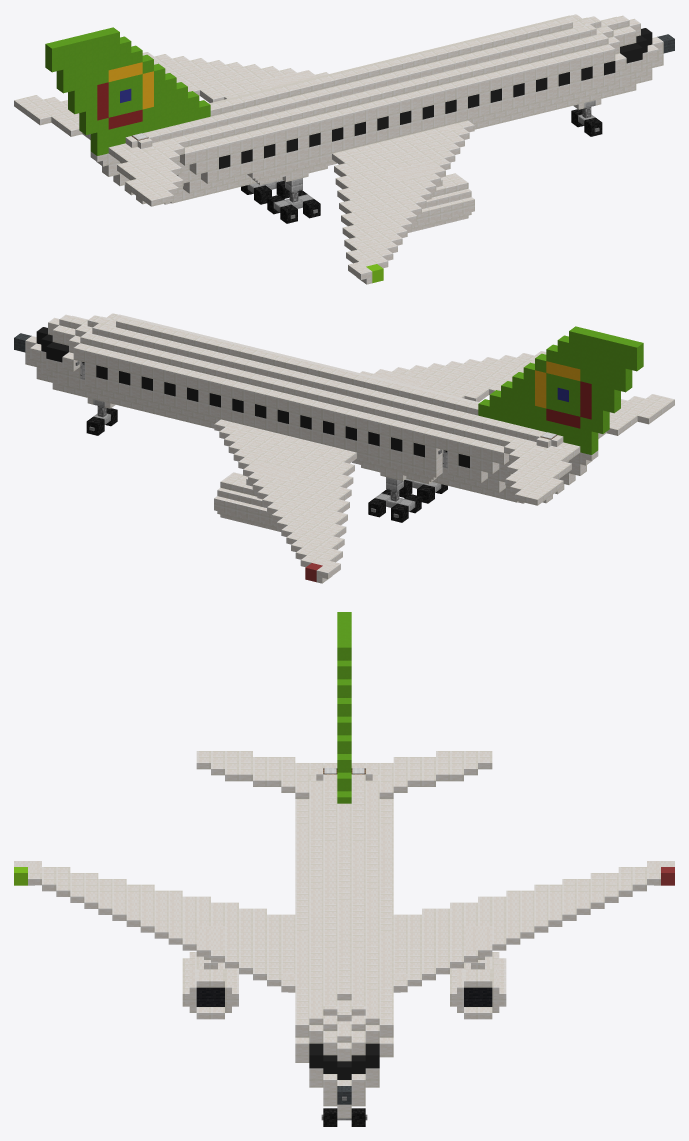
File: AirPlane.glb
3 views of the same model, one above another, from view 1: azimuth 30°, elevation 25°; view 2: azimuth 150°, elevation 25°; view 3: azimuth 270°, elevation 25° (orthographic). The views are drawn at different scales.
Parts seen in each view (by area): view 1: Plane; view 2: Plane; view 3: Plane.
Boxes of the visible parts, <box> form: Plane: <box>14,14,674,284</box>; Plane: <box>14,313,674,583</box>; Plane: <box>14,612,674,1126</box>.
Bounding box in the file's own units: 55.12 × 18 × 47.
1 material, 1 textured.
